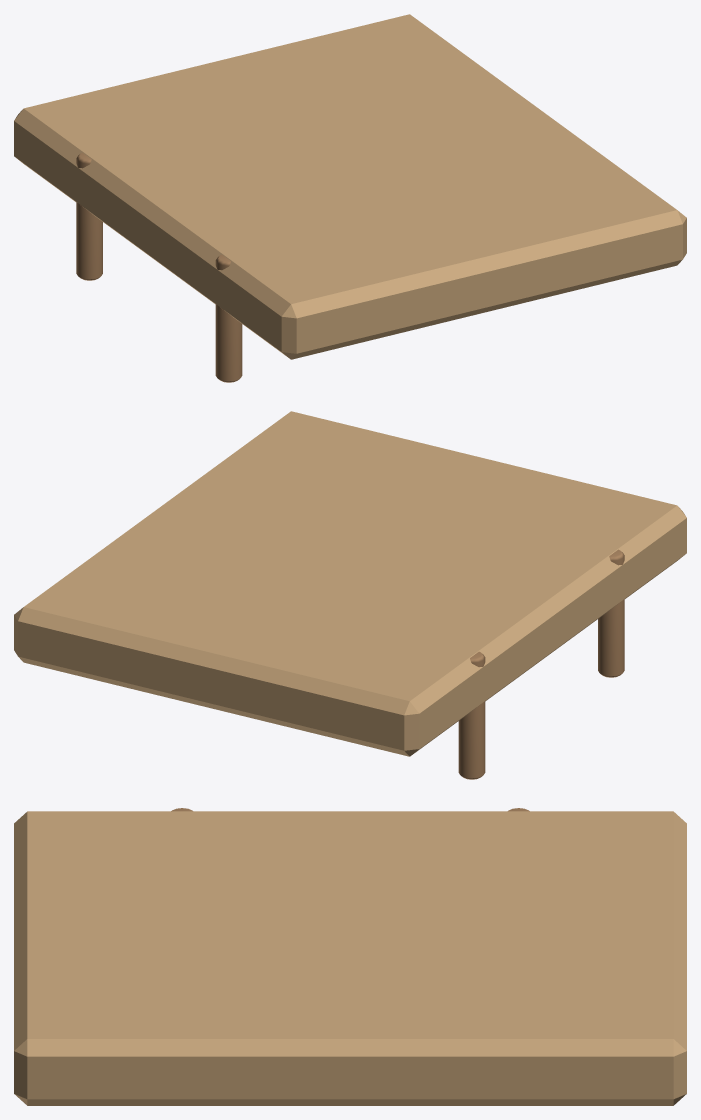
3 renders of one model, top to bottom at view 1: azimuth 30°, elevation 25°; view 2: azimuth 150°, elevation 25°; view 3: azimuth 270°, elevation 25°, orthographic. The views are drawn at different scales.
Visible parts, largest first — view 1: LOD2_MARINA_DOCK_CONNECTOR_Deck, LOD2_MARINA_DOCK_CONNECTOR_Pile_01, LOD2_MARINA_DOCK_CONNECTOR_Pile_02; view 2: LOD2_MARINA_DOCK_CONNECTOR_Deck, LOD2_MARINA_DOCK_CONNECTOR_Pile_02, LOD2_MARINA_DOCK_CONNECTOR_Pile_01; view 3: LOD2_MARINA_DOCK_CONNECTOR_Deck.
Part boxes in pixels (x1,y1,x2,y2): LOD2_MARINA_DOCK_CONNECTOR_Deck: [14, 14, 686, 359]; LOD2_MARINA_DOCK_CONNECTOR_Pile_01: [215, 254, 242, 382]; LOD2_MARINA_DOCK_CONNECTOR_Pile_02: [76, 152, 102, 280]; LOD2_MARINA_DOCK_CONNECTOR_Deck: [14, 411, 686, 756]; LOD2_MARINA_DOCK_CONNECTOR_Pile_02: [458, 651, 485, 779]; LOD2_MARINA_DOCK_CONNECTOR_Pile_01: [598, 549, 624, 677]; LOD2_MARINA_DOCK_CONNECTOR_Deck: [14, 811, 686, 1105].
Size of what is drawn, in the model's own units: 4.2 by 1.21 by 5.
